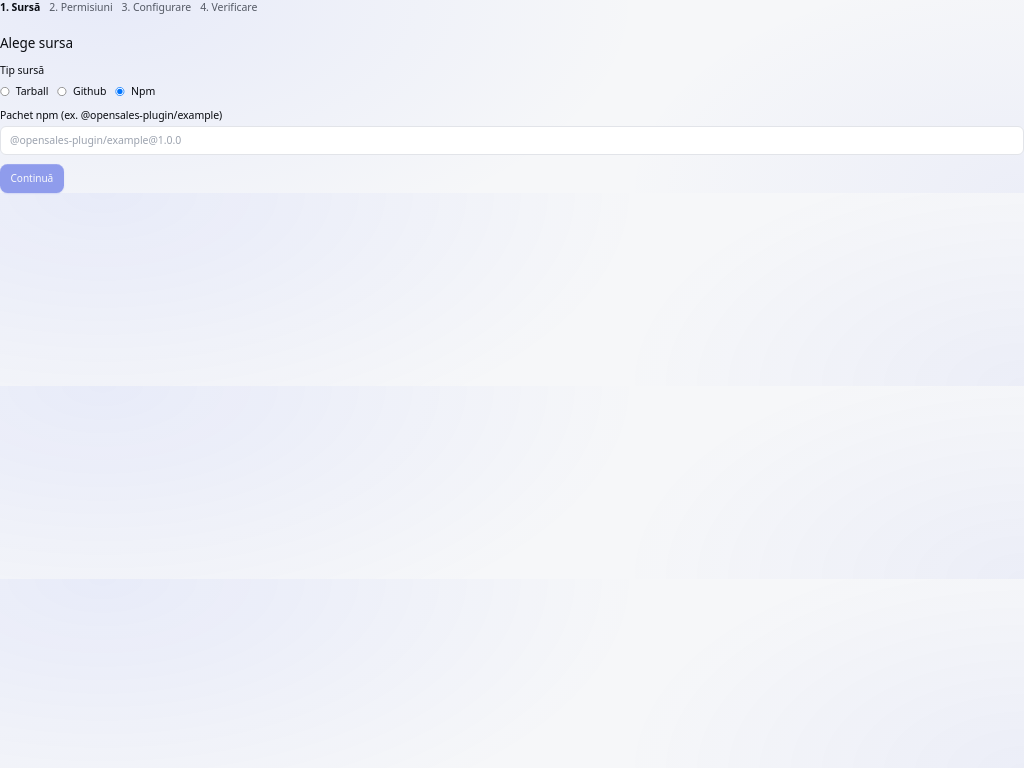
InstallWizard › shows error when install fails
In the field labelled "Pachet npm (ex. @opensales-plugin/example)": (512, 140) [0, 126, 1023, 155], type "whatever"
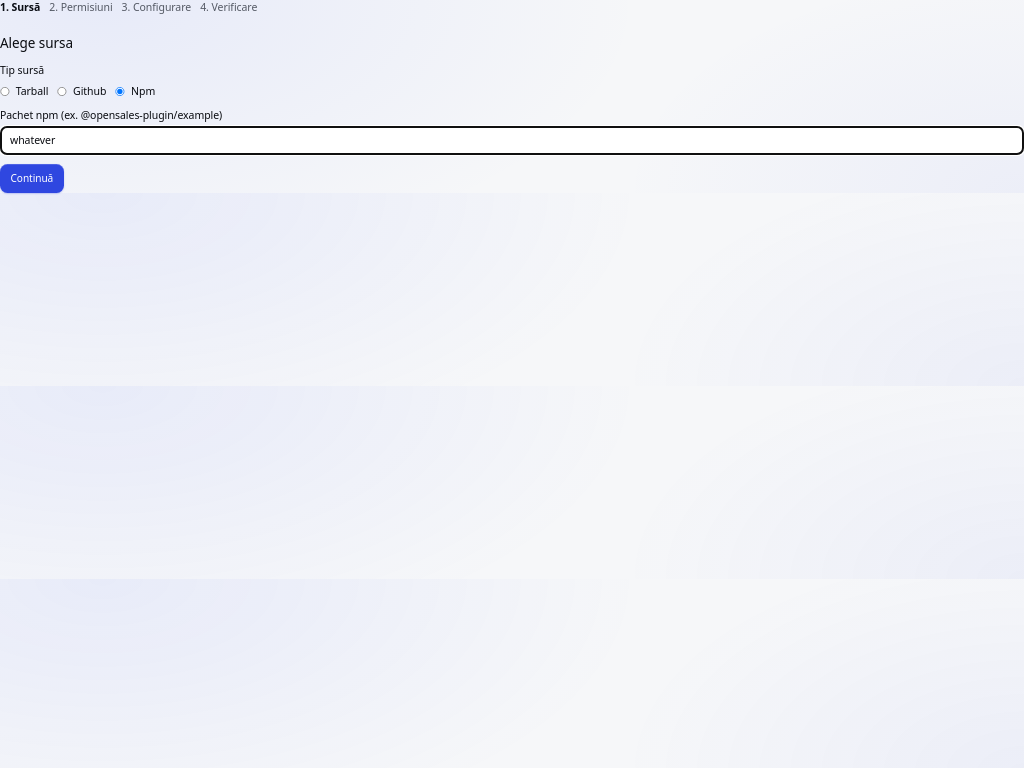
Click the button "Continuă": (32, 178) [0, 164, 64, 192]
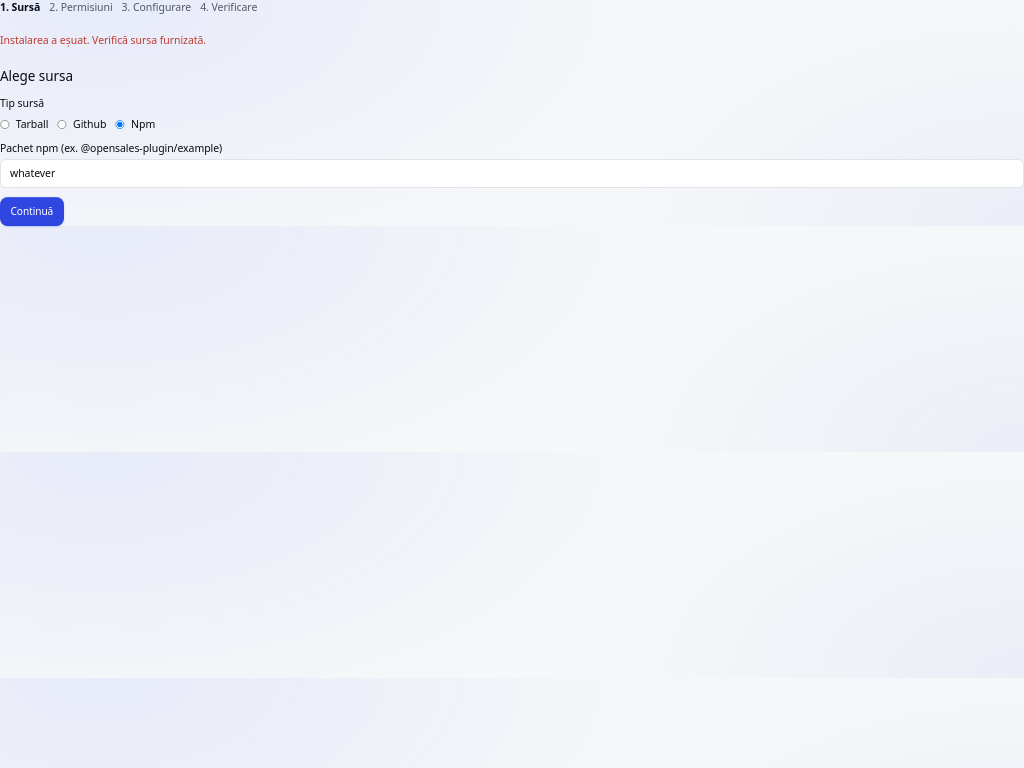
Expected: the message shows "Instalarea a eșuat", [0, 33, 206, 47]
